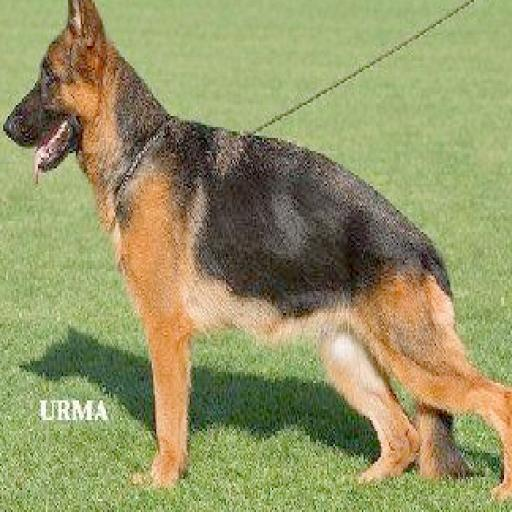dog_face: (0, 0, 111, 173)
